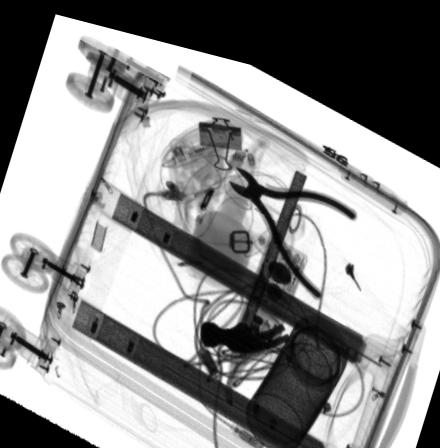Hammer: (200, 154, 307, 342)
Pliers: (229, 154, 358, 283)
